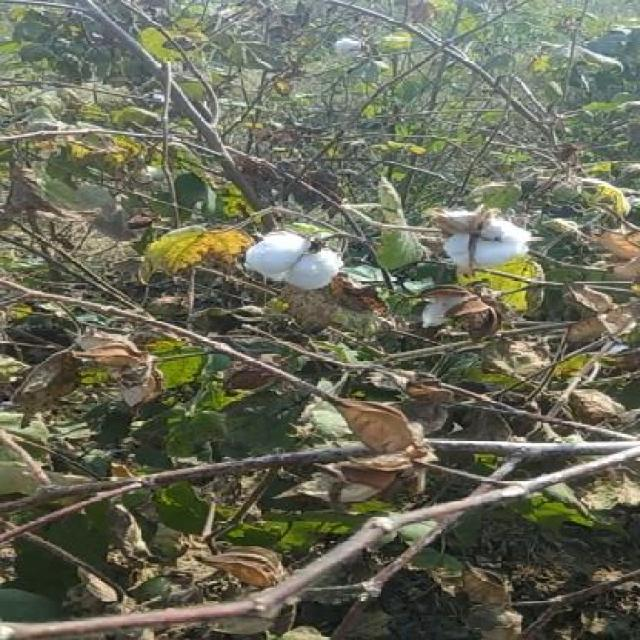cotton_ready: (400, 203, 558, 297), (232, 232, 363, 298)
